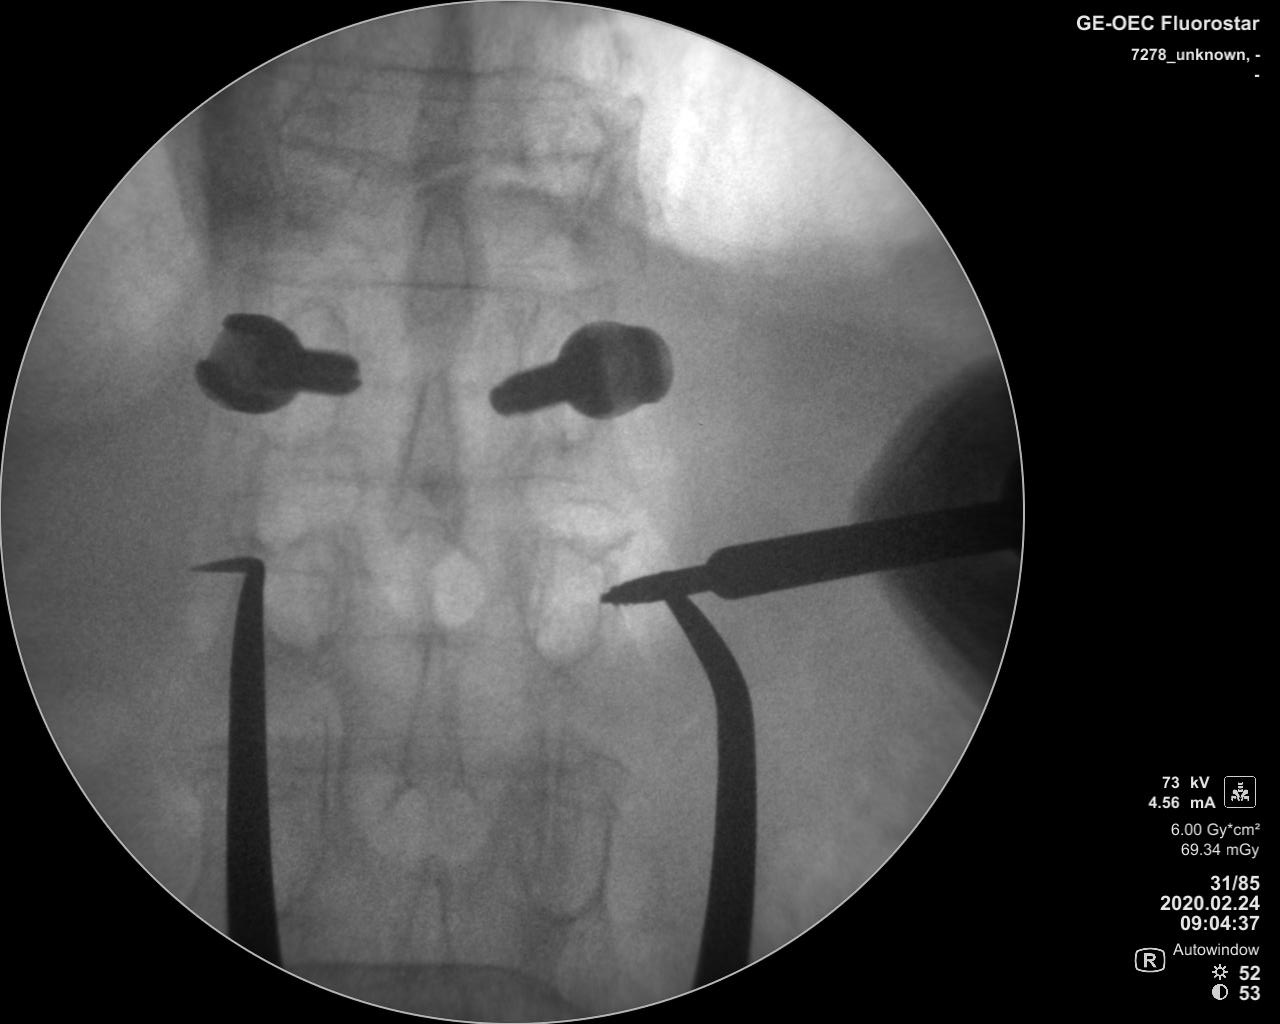eyes: (256, 301, 350, 445), (517, 775, 606, 920), (515, 84, 608, 209), (276, 86, 360, 216), (523, 537, 605, 668), (521, 307, 596, 449), (262, 533, 348, 655)
line: (293, 53, 587, 109), (243, 269, 578, 304), (285, 951, 559, 980), (267, 471, 598, 492)
nose: (393, 359, 465, 541), (395, 618, 467, 799), (409, 13, 472, 176), (408, 174, 470, 335), (395, 848, 456, 983)
